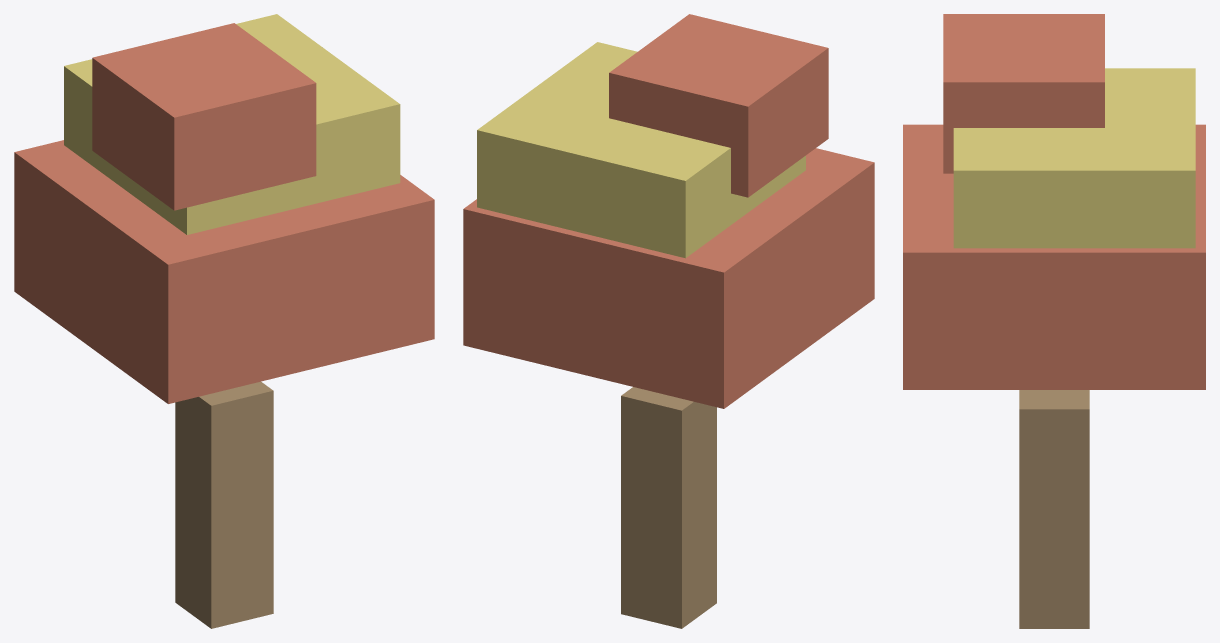
The model's file is propvar_autumn_red.glb.
3 views of the same model, side by side, from view 1: azimuth 30°, elevation 25°; view 2: azimuth 150°, elevation 25°; view 3: azimuth 270°, elevation 25° (orthographic). The views are drawn at different scales.
Visible parts, largest first — view 1: PropVar_Autumn_Red; view 2: PropVar_Autumn_Red; view 3: PropVar_Autumn_Red.
Part boxes in pixels (x1,y1,x2,y2): PropVar_Autumn_Red: [14, 14, 434, 628]; PropVar_Autumn_Red: [463, 14, 874, 628]; PropVar_Autumn_Red: [903, 14, 1205, 628].
Bounding box in the file's own units: 3 × 6 × 3.
